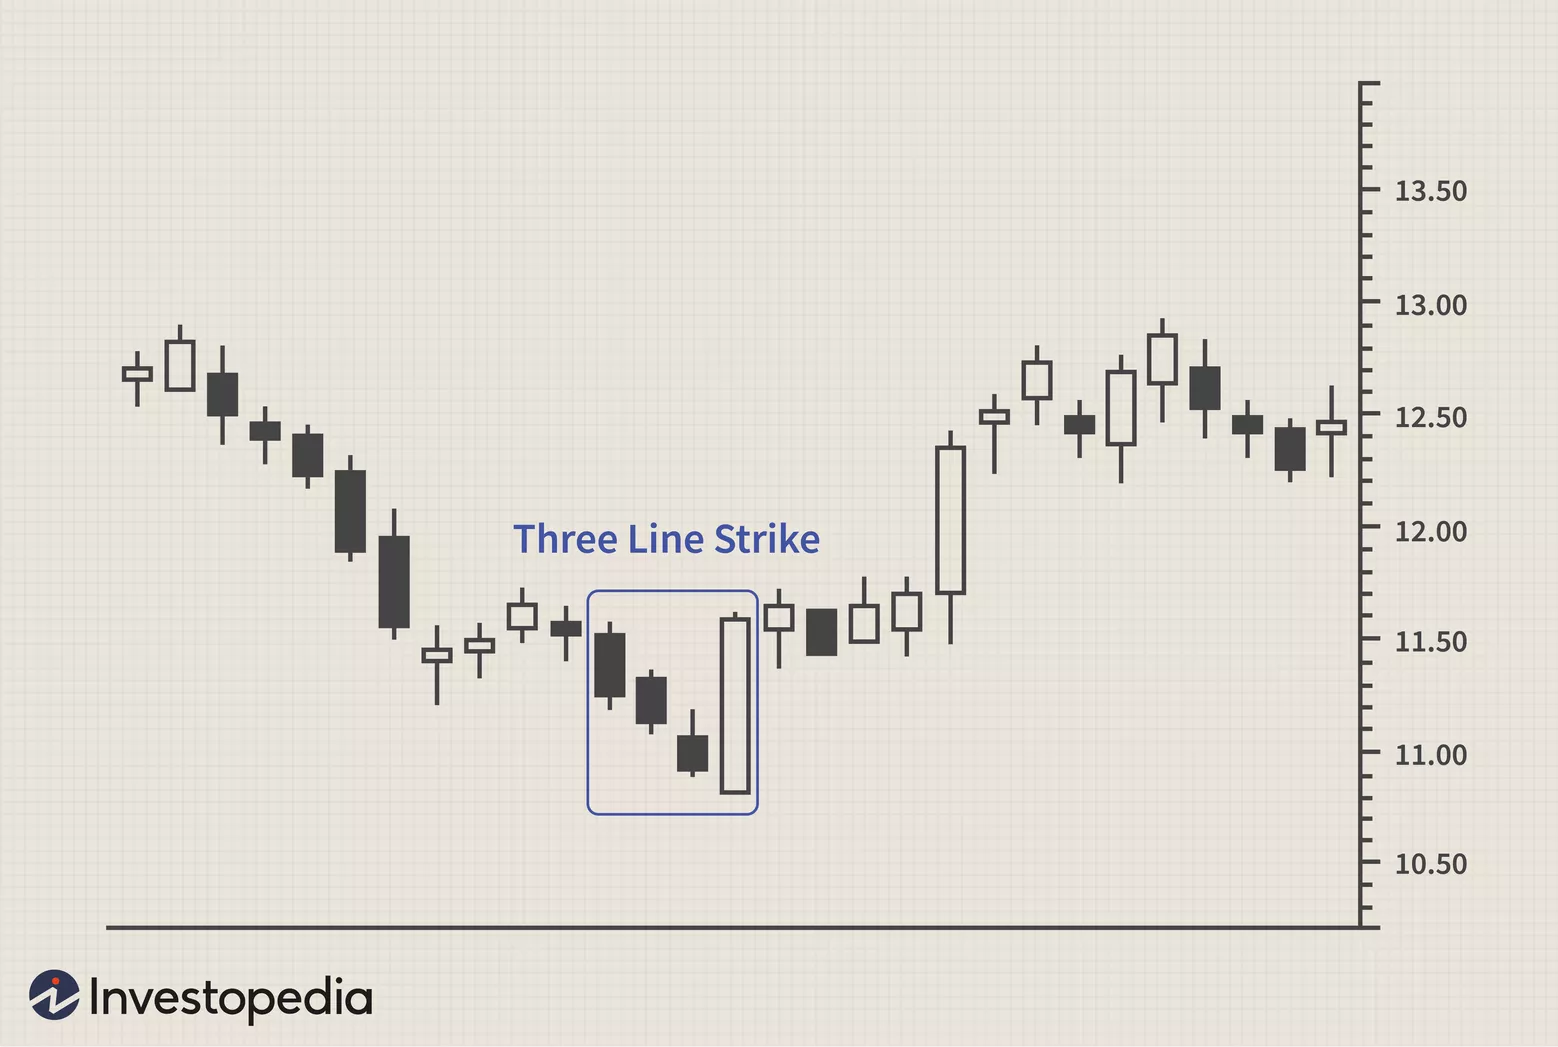3lineStrike: (594, 603, 749, 793)
